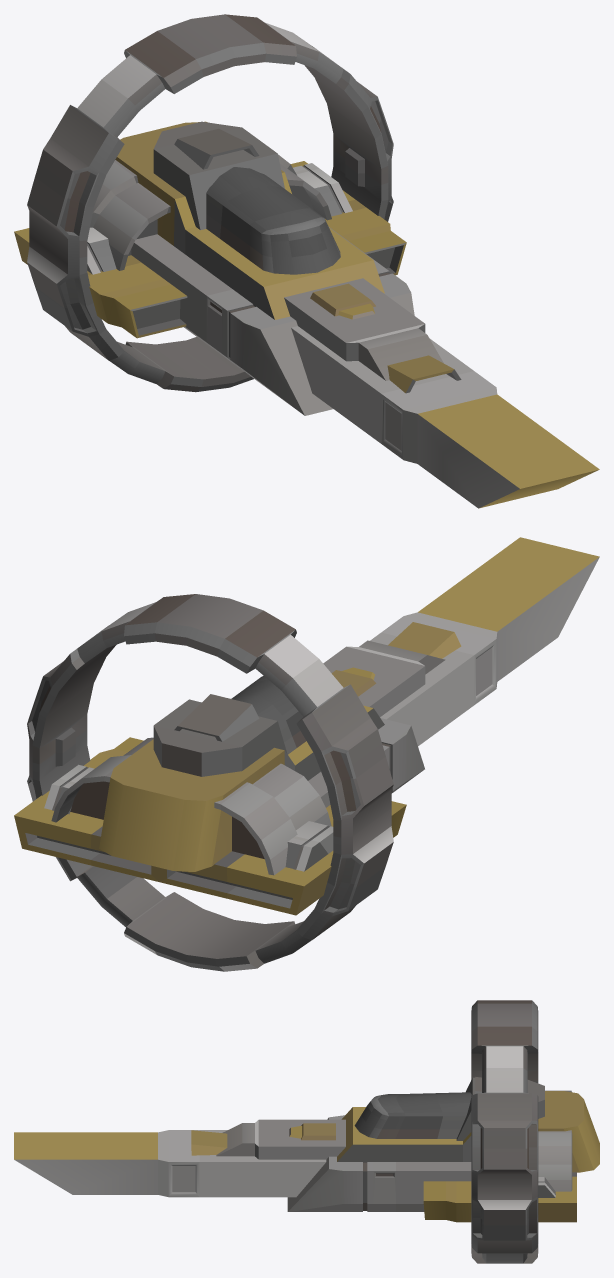
Rendered from zenith.glb.
3 views of the same model, one above another, from view 1: azimuth 30°, elevation 25°; view 2: azimuth 150°, elevation 25°; view 3: azimuth 270°, elevation 25° (orthographic). The views are drawn at different scales.
Parts seen in each view (by area): view 1: Zenith; view 2: Zenith; view 3: Zenith.
Part boxes in pixels (<box>): Zenith: <box>14,14,599,508</box>; Zenith: <box>14,537,599,971</box>; Zenith: <box>14,1000,599,1263</box>.
Size of the model in its own units: 5.63 by 5.43 by 12.07.
